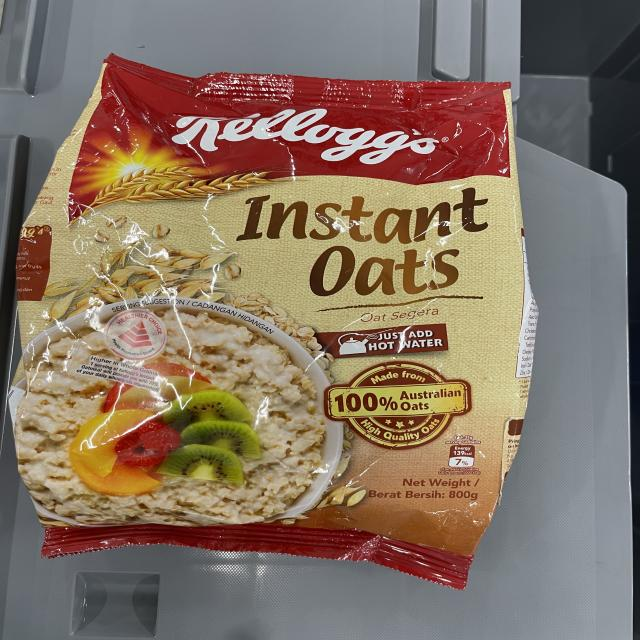object_name: (49, 67, 480, 556)
